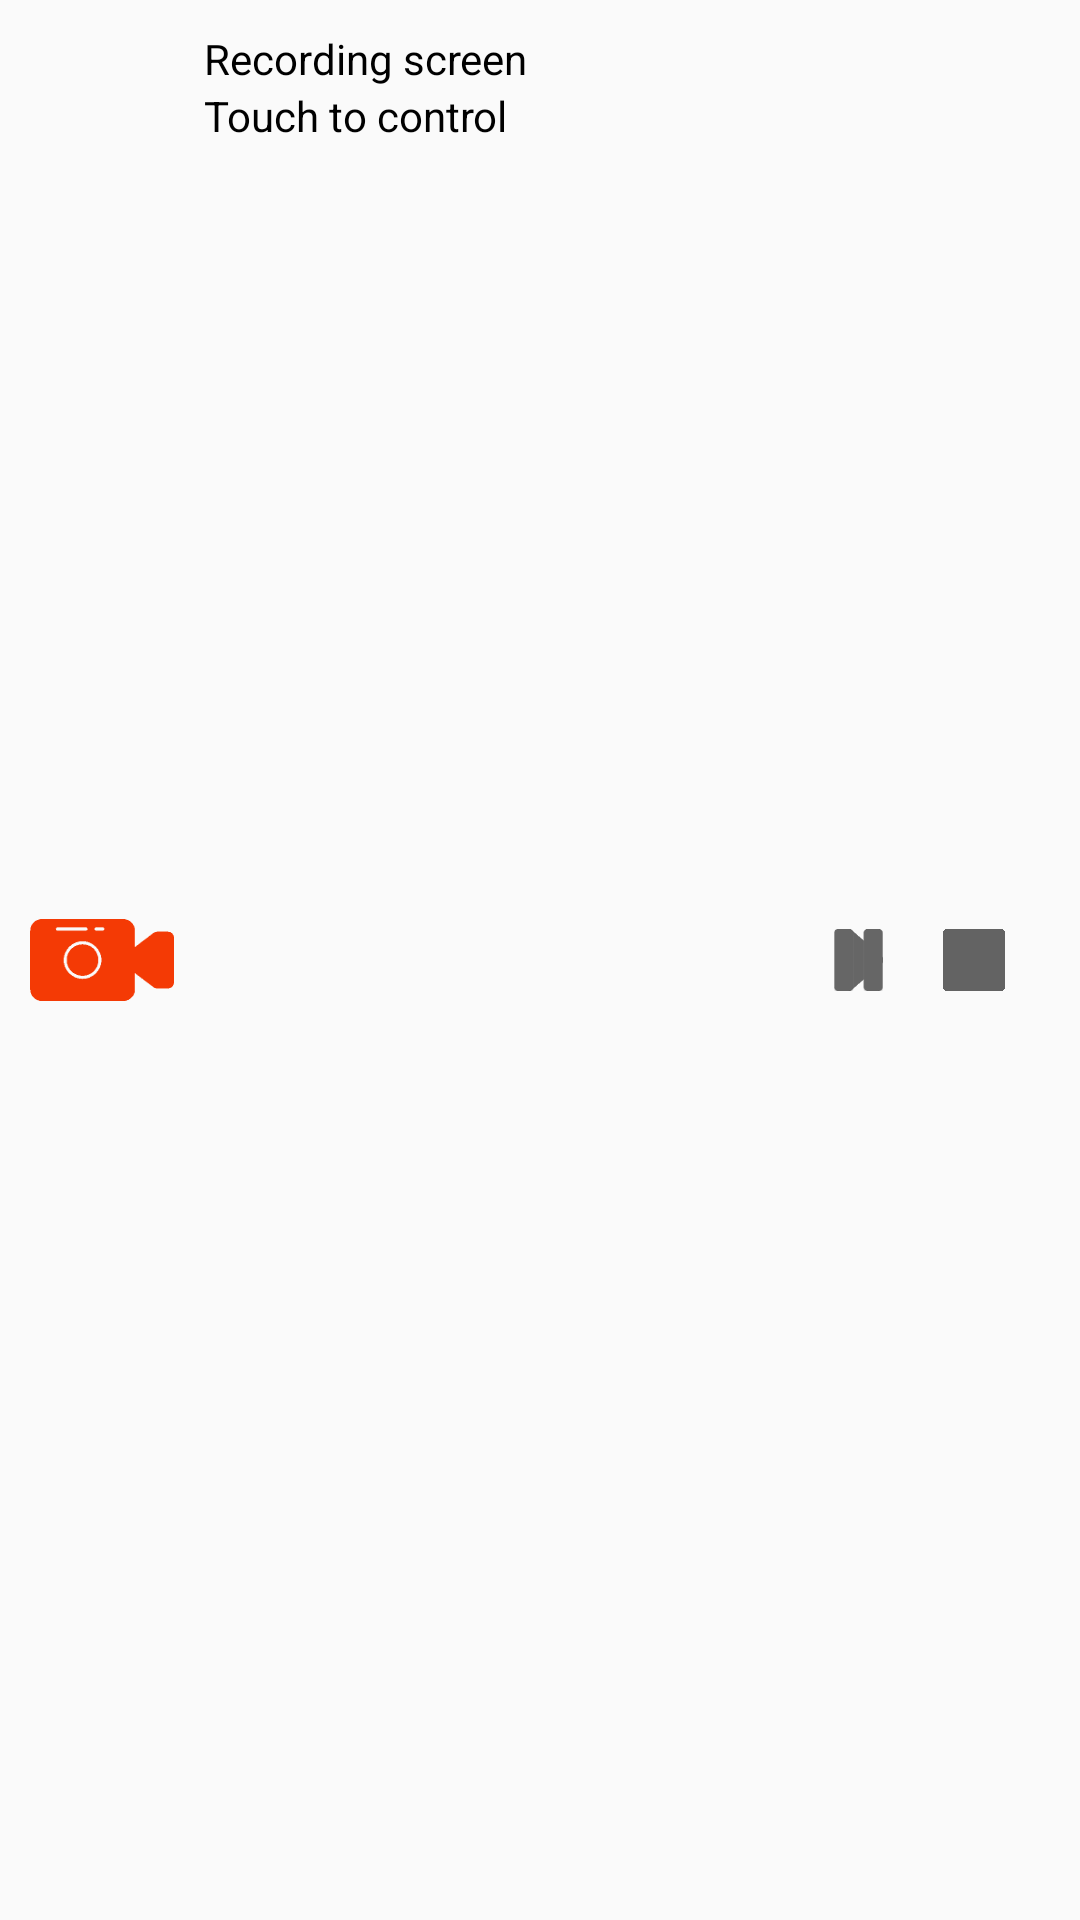

Screen size 1080px x 1920px. Icon name, then its center in pixels as [x,y]:
recordervideo noti: [102,960]
